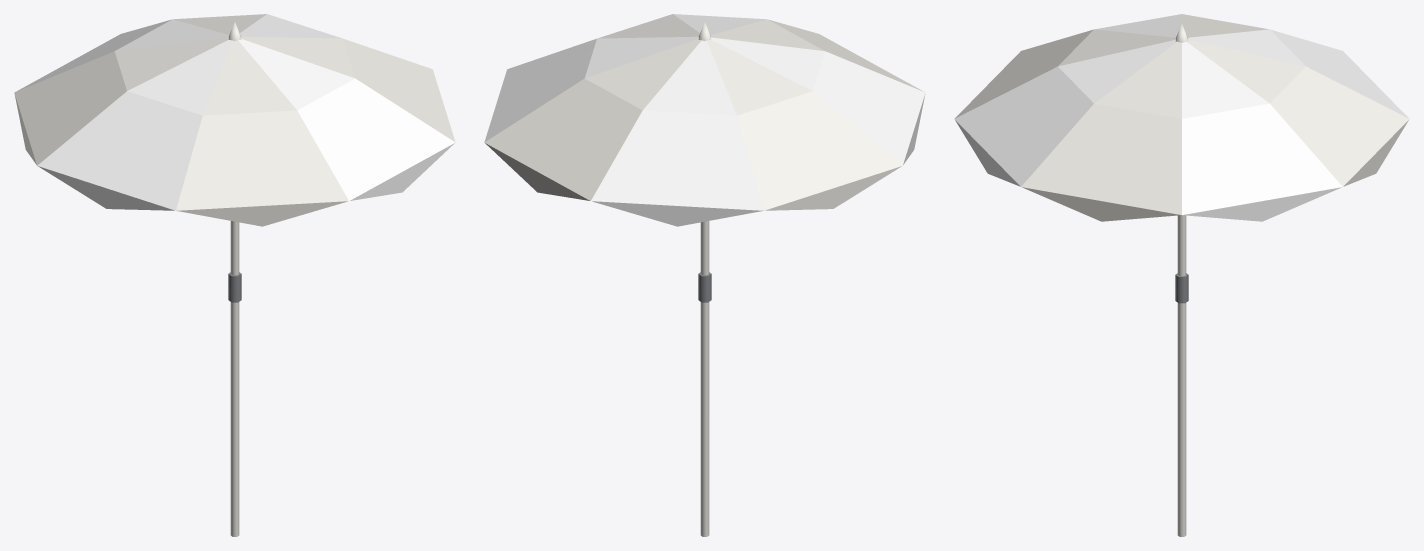
File: prop_umbrella.glb
3 renders of one model, left to right at view 1: azimuth 30°, elevation 25°; view 2: azimuth 150°, elevation 25°; view 3: azimuth 270°, elevation 25°, orthographic.
Visible parts, largest first — view 1: prop_umbrella__mesh; view 2: prop_umbrella__mesh; view 3: prop_umbrella__mesh.
Boxes of the visible parts, x1,y1,x2,y2 form: prop_umbrella__mesh: (14, 14, 455, 536); prop_umbrella__mesh: (484, 14, 925, 536); prop_umbrella__mesh: (954, 14, 1409, 536).
Bounding box in the file's own units: 2.2 × 2.73 × 2.2.
1 material, 1 textured.
